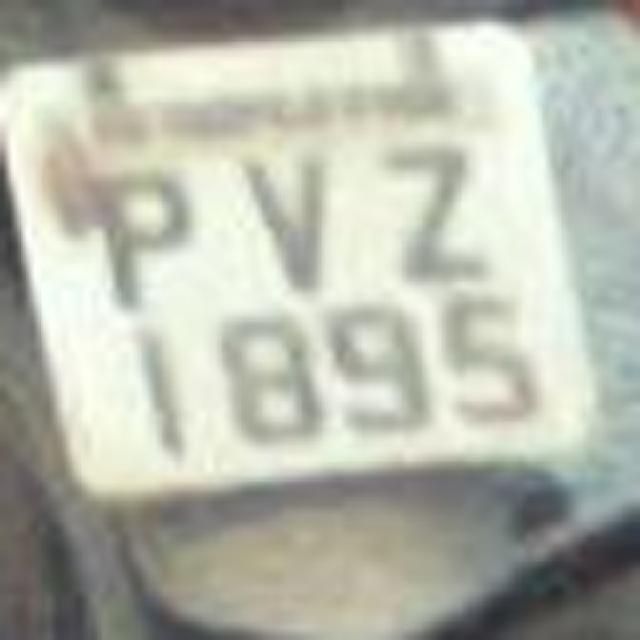1: (112, 300, 192, 445)
5: (409, 284, 556, 448)
8: (196, 280, 332, 460)
9: (305, 276, 440, 452)
P: (72, 144, 208, 304)
V: (232, 128, 356, 304)
Z: (369, 136, 516, 292)
